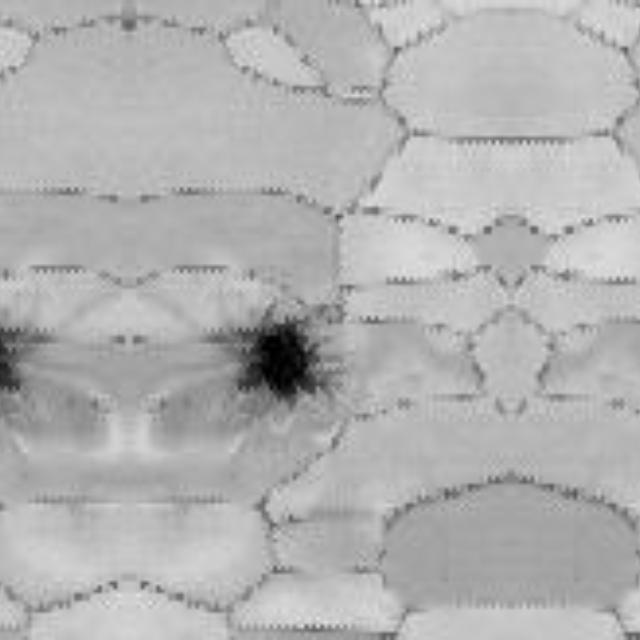good_void: (228, 304, 326, 409), (0, 320, 31, 394)
